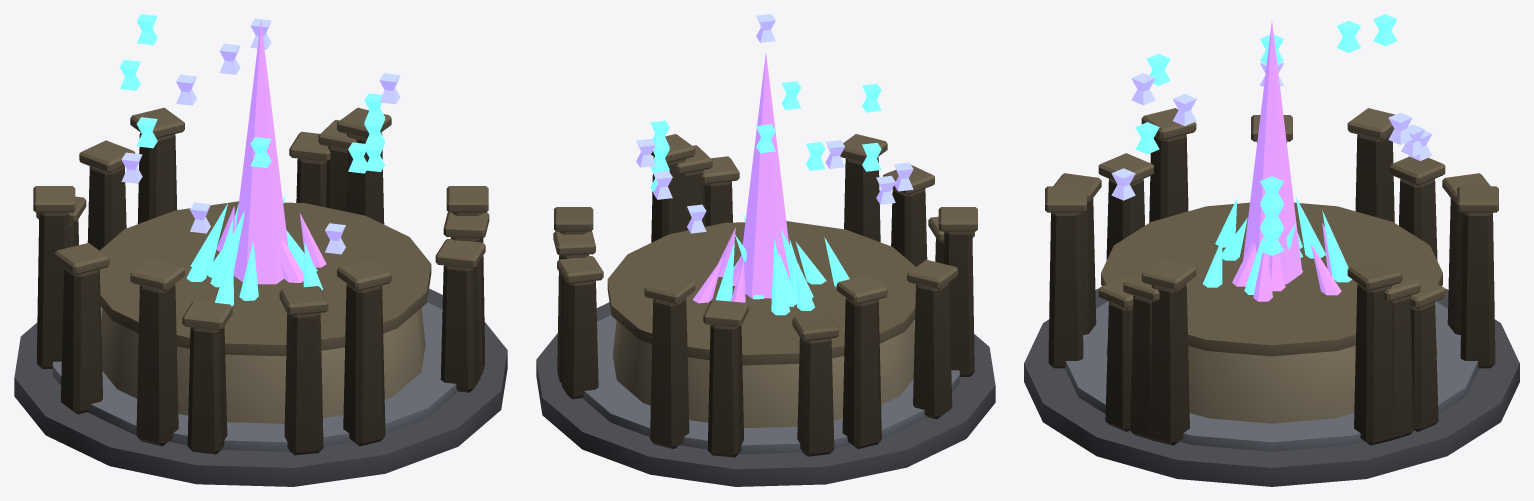
Rendered from b_cwell.glb.
3 views of the same model, side by side, from view 1: azimuth 30°, elevation 25°; view 2: azimuth 150°, elevation 25°; view 3: azimuth 270°, elevation 25° (orthographic). The views are drawn at different scales.
Parts seen in each view (by area): view 1: cwell_t1_body, cwell_t3_body, cwell_t2_body, cwell_t3__shards, cwell_t2__shards, cwell_t1__shards; view 2: cwell_t1_body, cwell_t3_body, cwell_t2_body, cwell_t3__shards, cwell_t2__shards, cwell_t1__shards; view 3: cwell_t1_body, cwell_t3_body, cwell_t2_body, cwell_t3__shards, cwell_t2__shards, cwell_t1__shards.
Boxes of the visible parts, x1,y1,x2,y2 form: cwell_t1_body: (14, 131, 507, 486); cwell_t3_body: (33, 21, 488, 446); cwell_t2_body: (54, 120, 489, 455); cwell_t3__shards: (121, 14, 400, 183); cwell_t2__shards: (120, 43, 385, 233); cwell_t1__shards: (136, 74, 384, 254); cwell_t1_body: (536, 156, 995, 486); cwell_t3_body: (554, 53, 977, 448); cwell_t2_body: (553, 145, 957, 457); cwell_t3__shards: (636, 14, 895, 204); cwell_t2__shards: (651, 81, 913, 199); cwell_t1__shards: (650, 140, 881, 233); cwell_t1_body: (1024, 153, 1519, 486); cwell_t3_body: (1045, 21, 1498, 445); cwell_t2_body: (1053, 115, 1490, 440); cwell_t3__shards: (1131, 14, 1412, 208); cwell_t2__shards: (1135, 20, 1424, 231); cwell_t1__shards: (1111, 35, 1432, 255).
Size of the model in its own units: 2.84 by 2.35 by 2.84.
